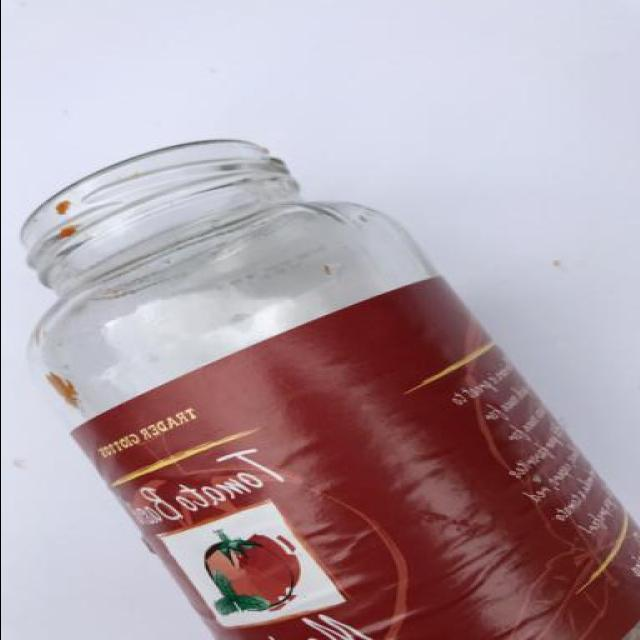glass: (16, 136, 640, 640)
